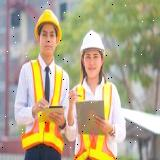Helmet: (35, 9, 62, 49), (80, 29, 106, 60)
Vest: (22, 59, 64, 154), (73, 81, 118, 160)
